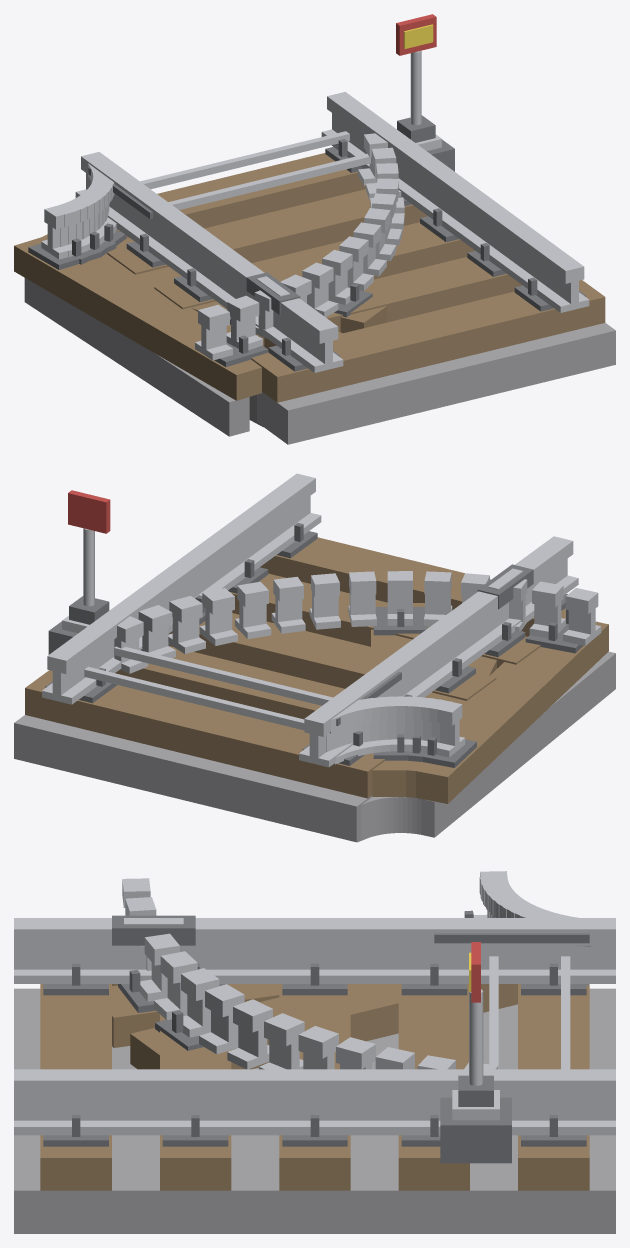
File: rail_switch_left.glb
3 views of the same model, one above another, from view 1: azimuth 30°, elevation 25°; view 2: azimuth 150°, elevation 25°; view 3: azimuth 270°, elevation 25° (orthographic). The views are drawn at different scales.
Parts seen in each view (by area): view 1: rail, switch_lever; view 2: rail, switch_lever; view 3: rail, switch_lever.
Boxes of the visible parts, <box> form: rail: <box>14,91,615,444</box>; switch_lever: <box>396,14,436,142</box>; rail: <box>14,473,615,842</box>; switch_lever: <box>68,490,110,624</box>; rail: <box>14,871,615,1233</box>; switch_lever: <box>458,942,493,1106</box>.
Size of the model in its own units: 0.9692 by 0.504 by 1.01.
